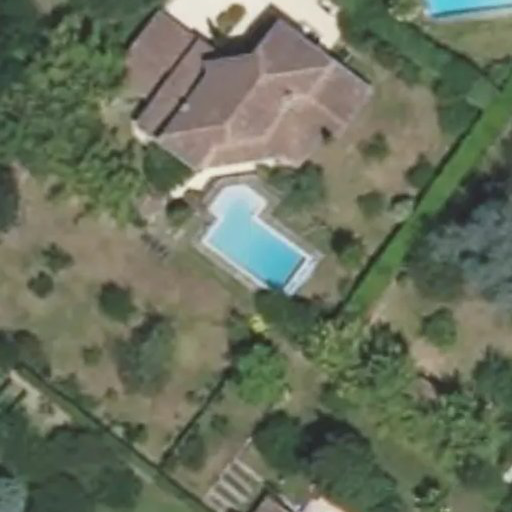pool: (194, 230, 317, 244)
